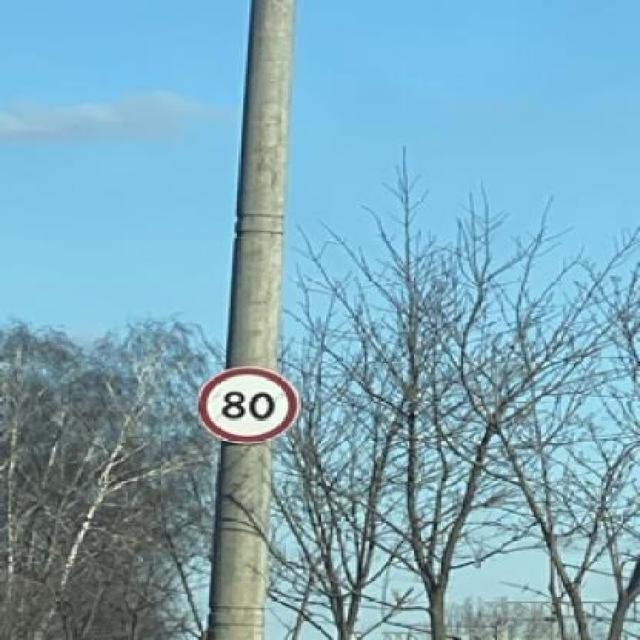forb_speed_over_80: (201, 370, 297, 441)
